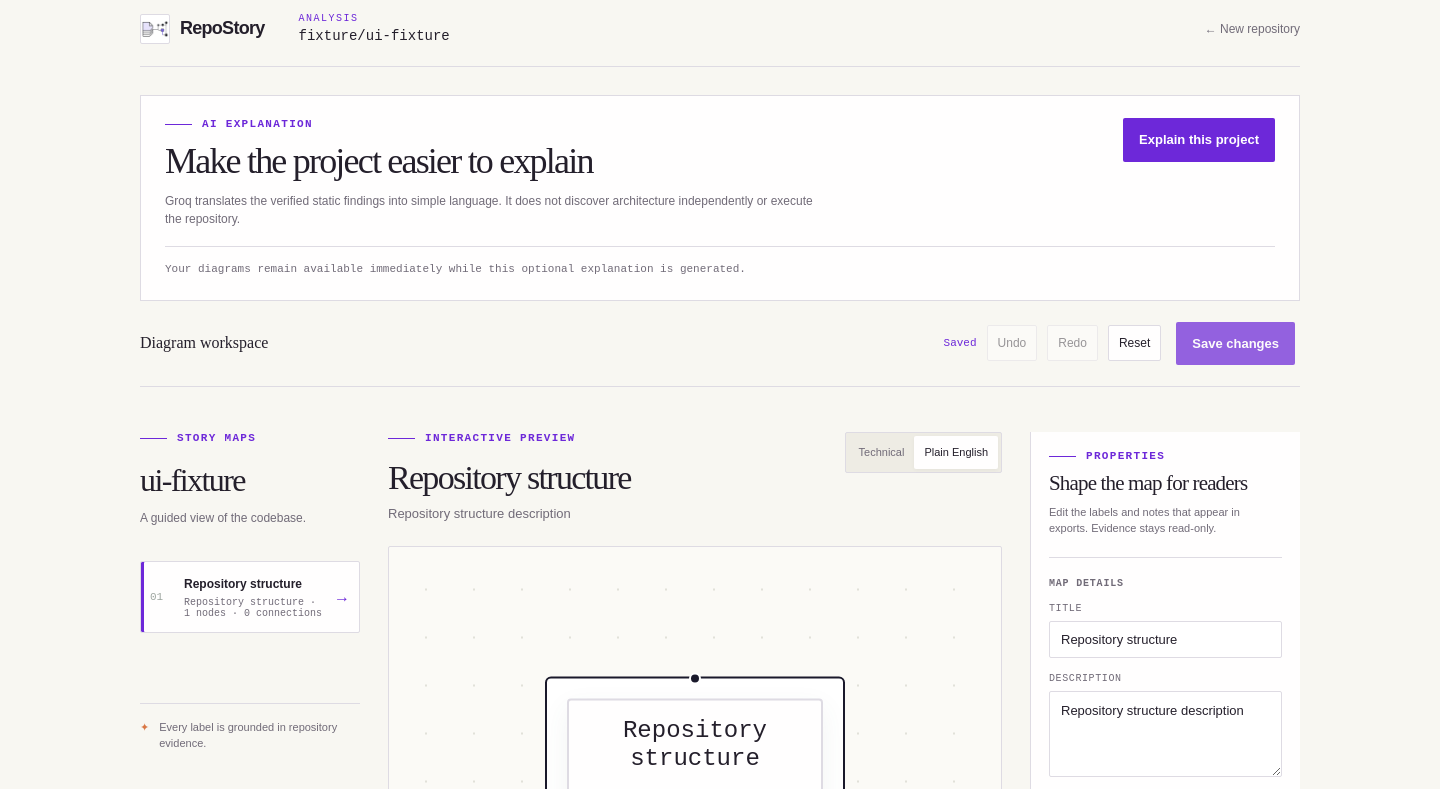
Scenario: RepoAnalysis diagram navigation › shows the save error and does not request a stale export
Expected: the heading "Repository structure" is shown, [388, 459, 631, 497]
Replace the text in the field labelled "Title" with "Edited title" at (1166, 639), box [1049, 621, 1282, 658]
(page scrolled)
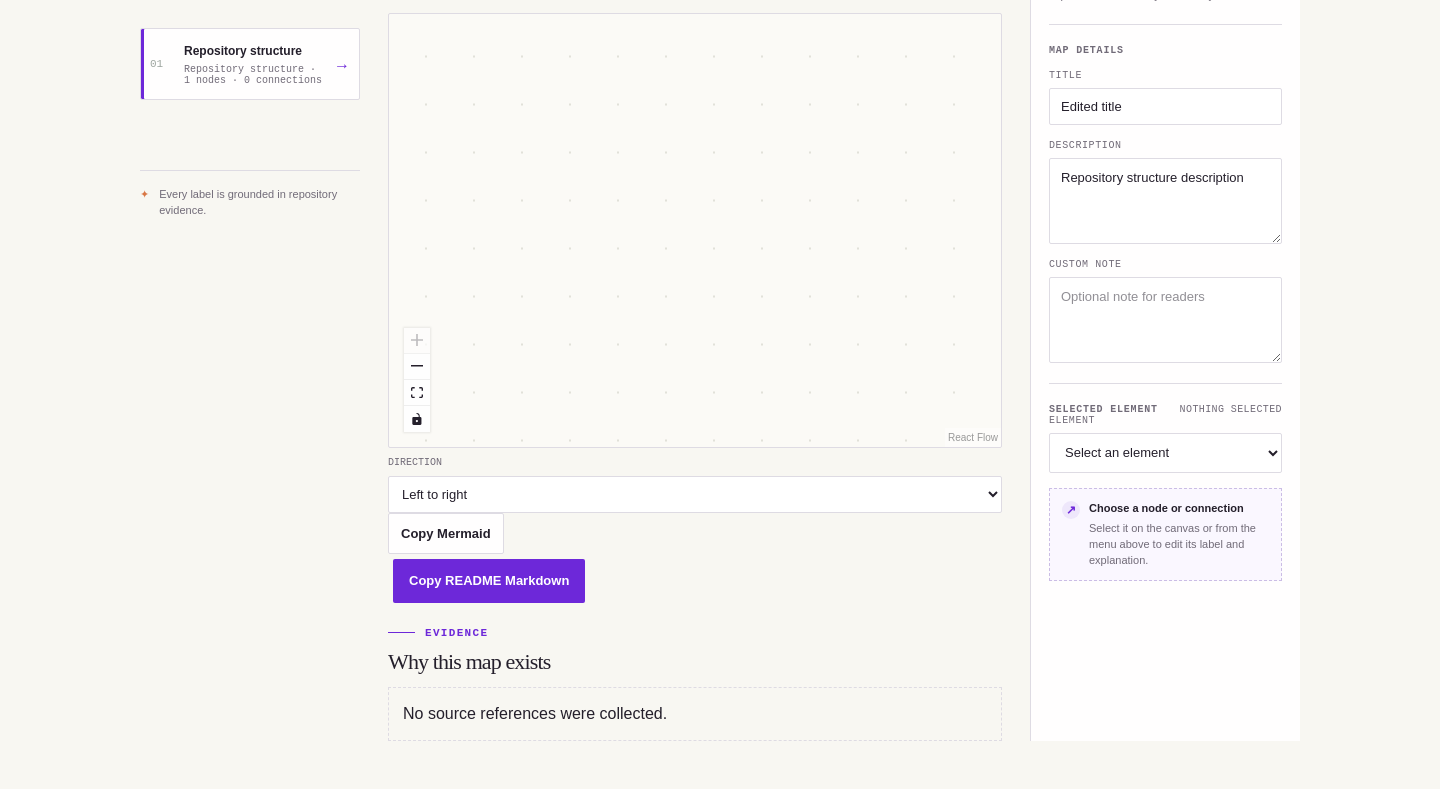
Click the button "Copy README Markdown" at (489, 581), box [393, 559, 585, 603]
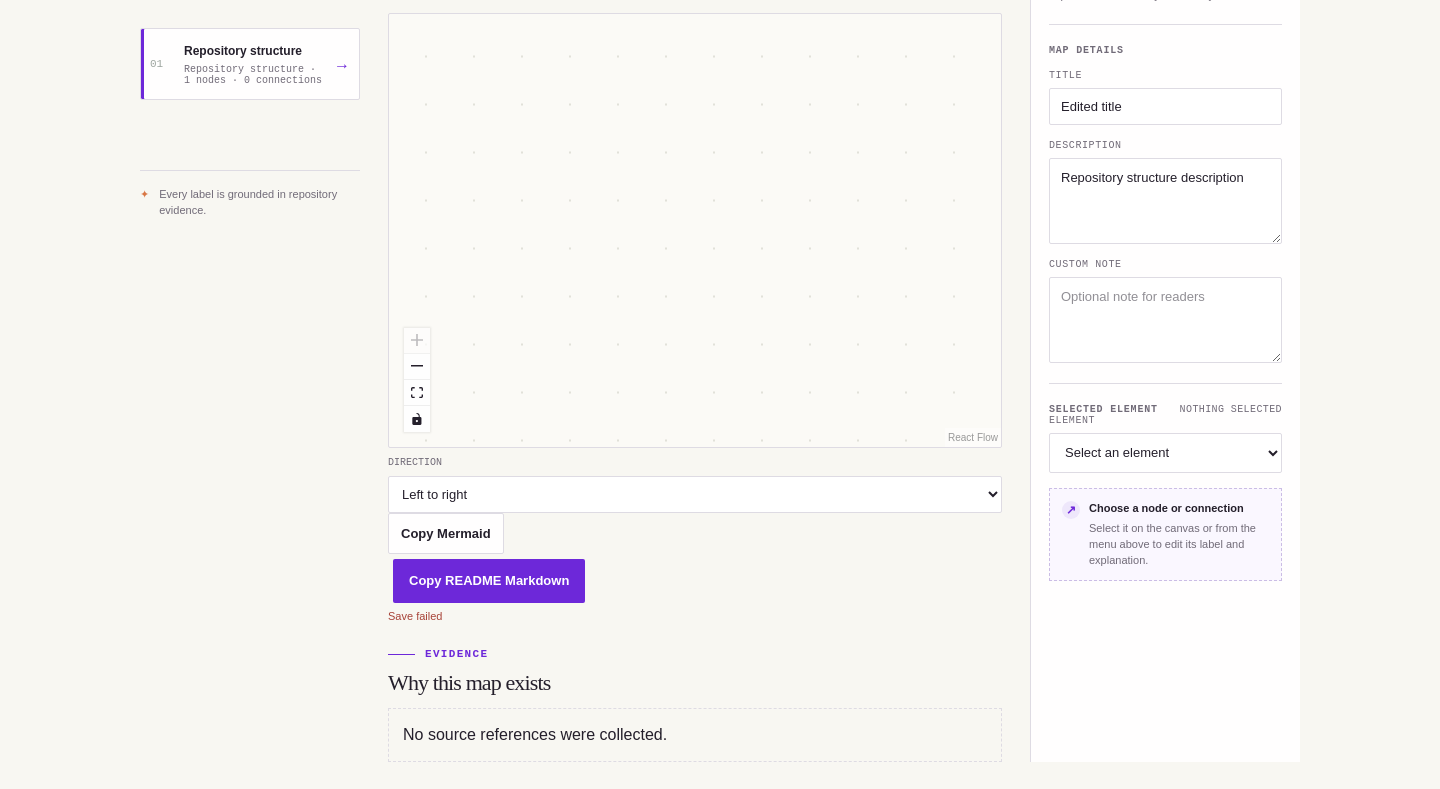
Now the message reads "Save failed", box [388, 610, 442, 622]
